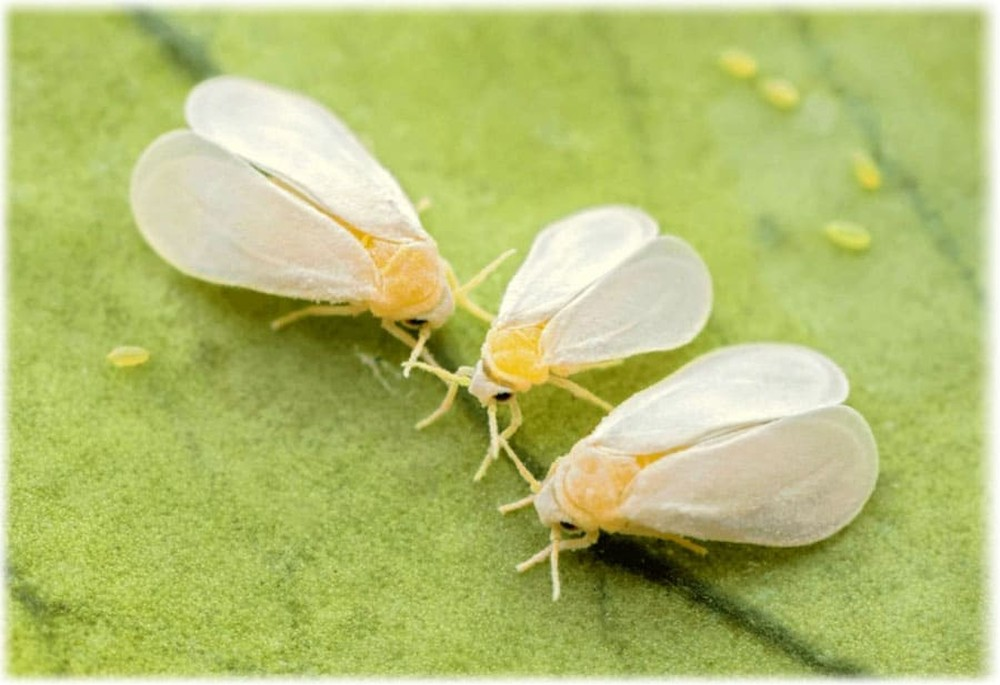Mosca Blanca: (119, 57, 490, 394), (502, 332, 905, 613), (429, 192, 725, 475)
